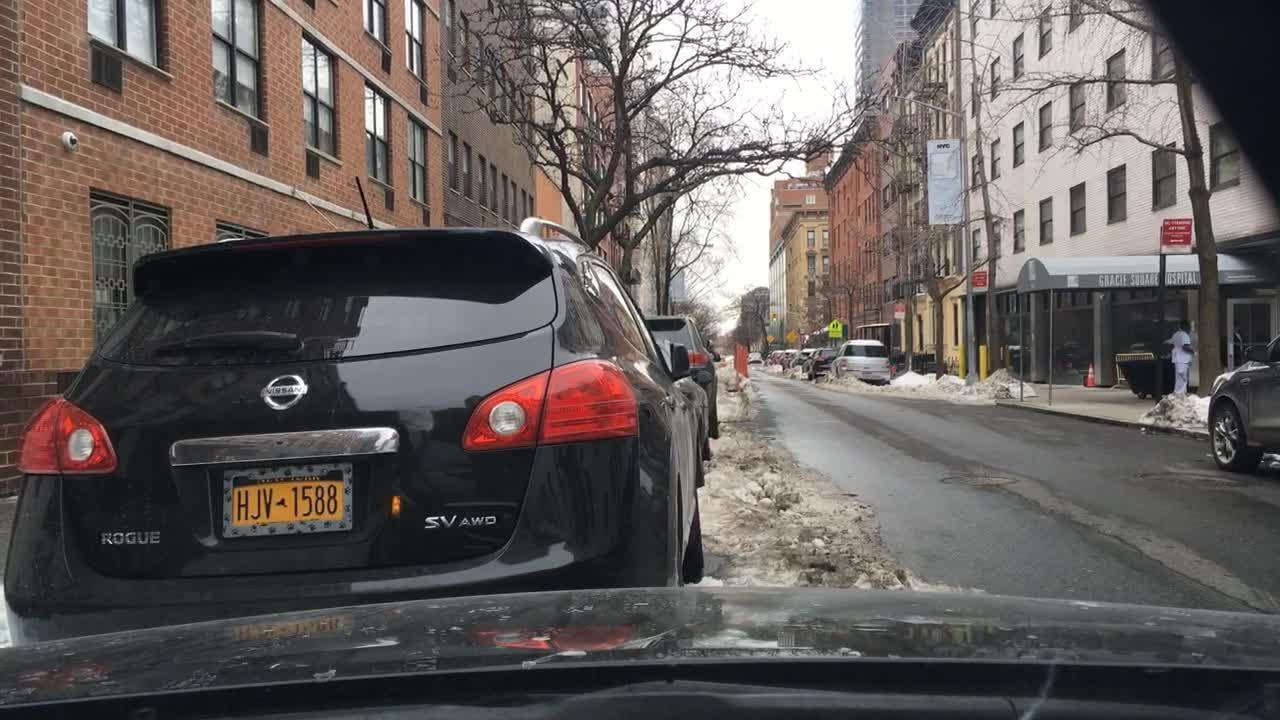Nissan: (241, 362, 327, 426)
